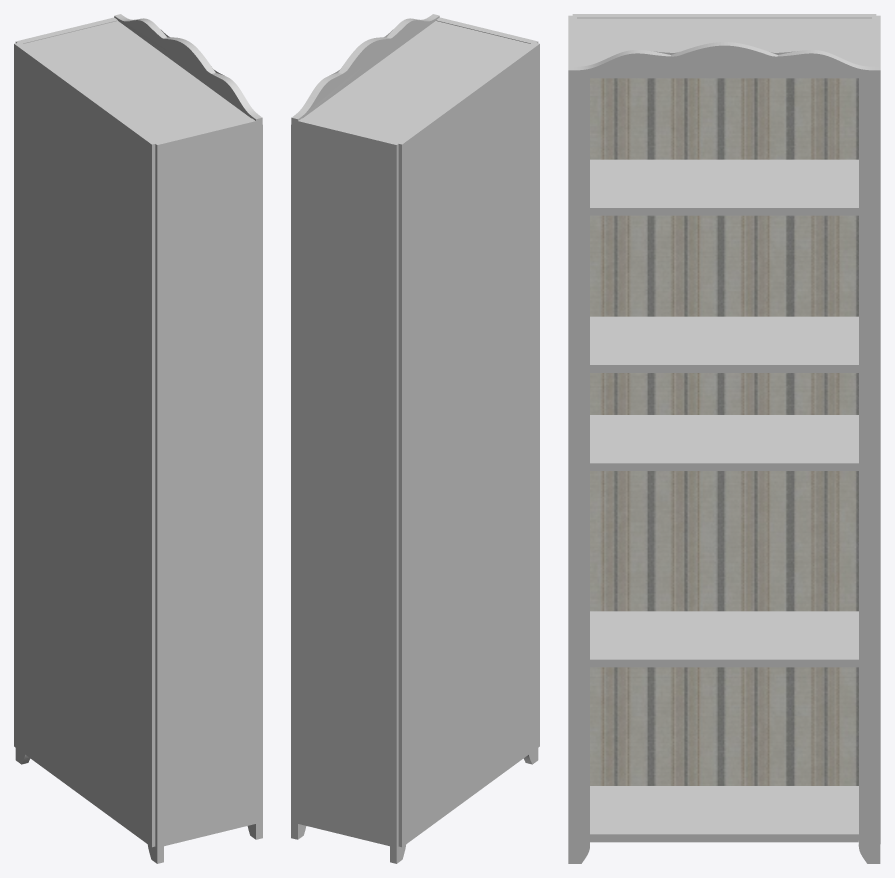
The model's file is hyllykko.glb.
3 renders of one model, left to right at view 1: azimuth 30°, elevation 25°; view 2: azimuth 150°, elevation 25°; view 3: azimuth 270°, elevation 25°, orthographic. The views are drawn at different scales.
Visible parts, largest first — view 1: Cube.010, Cube.002, Cube.005, Cube.004, Plane.003, Cube.001; view 2: Cube.010, Cube.001, Cube.005, Cube.003, Plane.003, Cube.002; view 3: Cube.011, Cube.003, Cube.004, Cube, Cube.006, Cube.008, Cube.009, Cube.007, Cube.005, Plane.003, Cube.010.
Part boxes in pixels (x1,y1,x2,y2): Cube.010: [14, 43, 157, 847]; Cube.002: [154, 118, 259, 847]; Cube.005: [24, 21, 250, 141]; Cube.004: [256, 125, 262, 821]; Plane.003: [114, 14, 262, 125]; Cube.001: [15, 17, 117, 44]; Cube.010: [395, 42, 539, 847]; Cube.001: [294, 118, 399, 847]; Cube.005: [303, 21, 529, 141]; Cube.003: [291, 125, 297, 821]; Plane.003: [291, 14, 439, 125]; Cube.002: [436, 17, 538, 43]; Cube.011: [590, 78, 858, 785]; Cube.003: [859, 78, 880, 844]; Cube.004: [568, 78, 589, 844]; Cube: [590, 786, 858, 842]; Cube.006: [590, 611, 858, 667]; Cube.008: [590, 316, 858, 372]; Cube.009: [590, 159, 858, 215]; Cube.007: [590, 415, 858, 470]; Cube.005: [577, 18, 871, 66]; Plane.003: [568, 42, 880, 78]; Cube.010: [572, 14, 876, 18].
Size of the model in its own units: 0.32 by 2.08 by 0.72.
2 materials, 1 textured.
